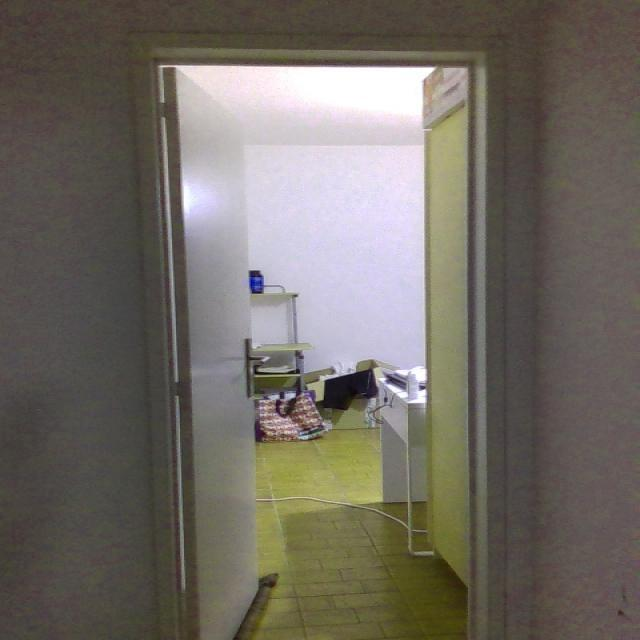door: (150, 62, 266, 640)
